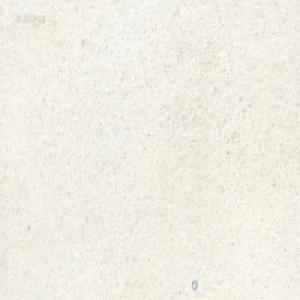Washer: (191, 279, 197, 290)
